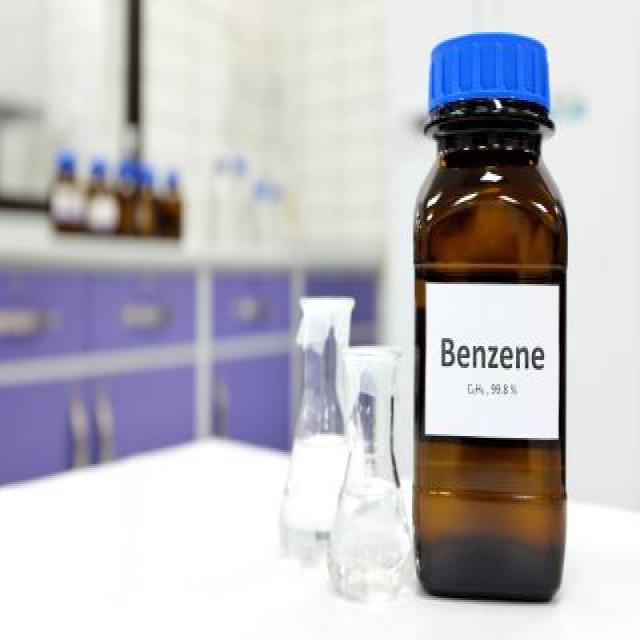chemical name: (429, 325, 549, 382)
